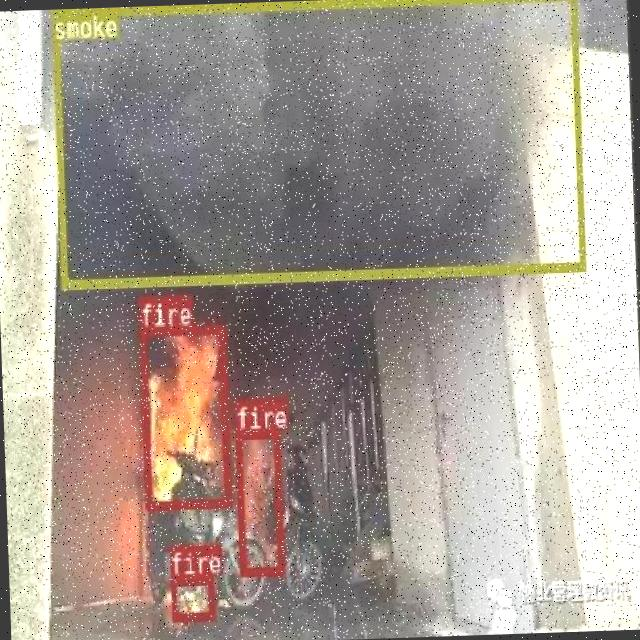smoke: (50, 0, 584, 287)
